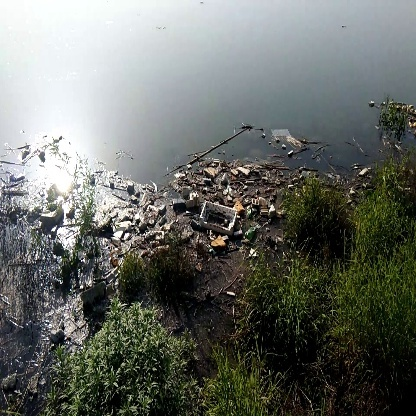branch: (186, 125, 252, 165)
plastic-garbage: (197, 198, 241, 234)
